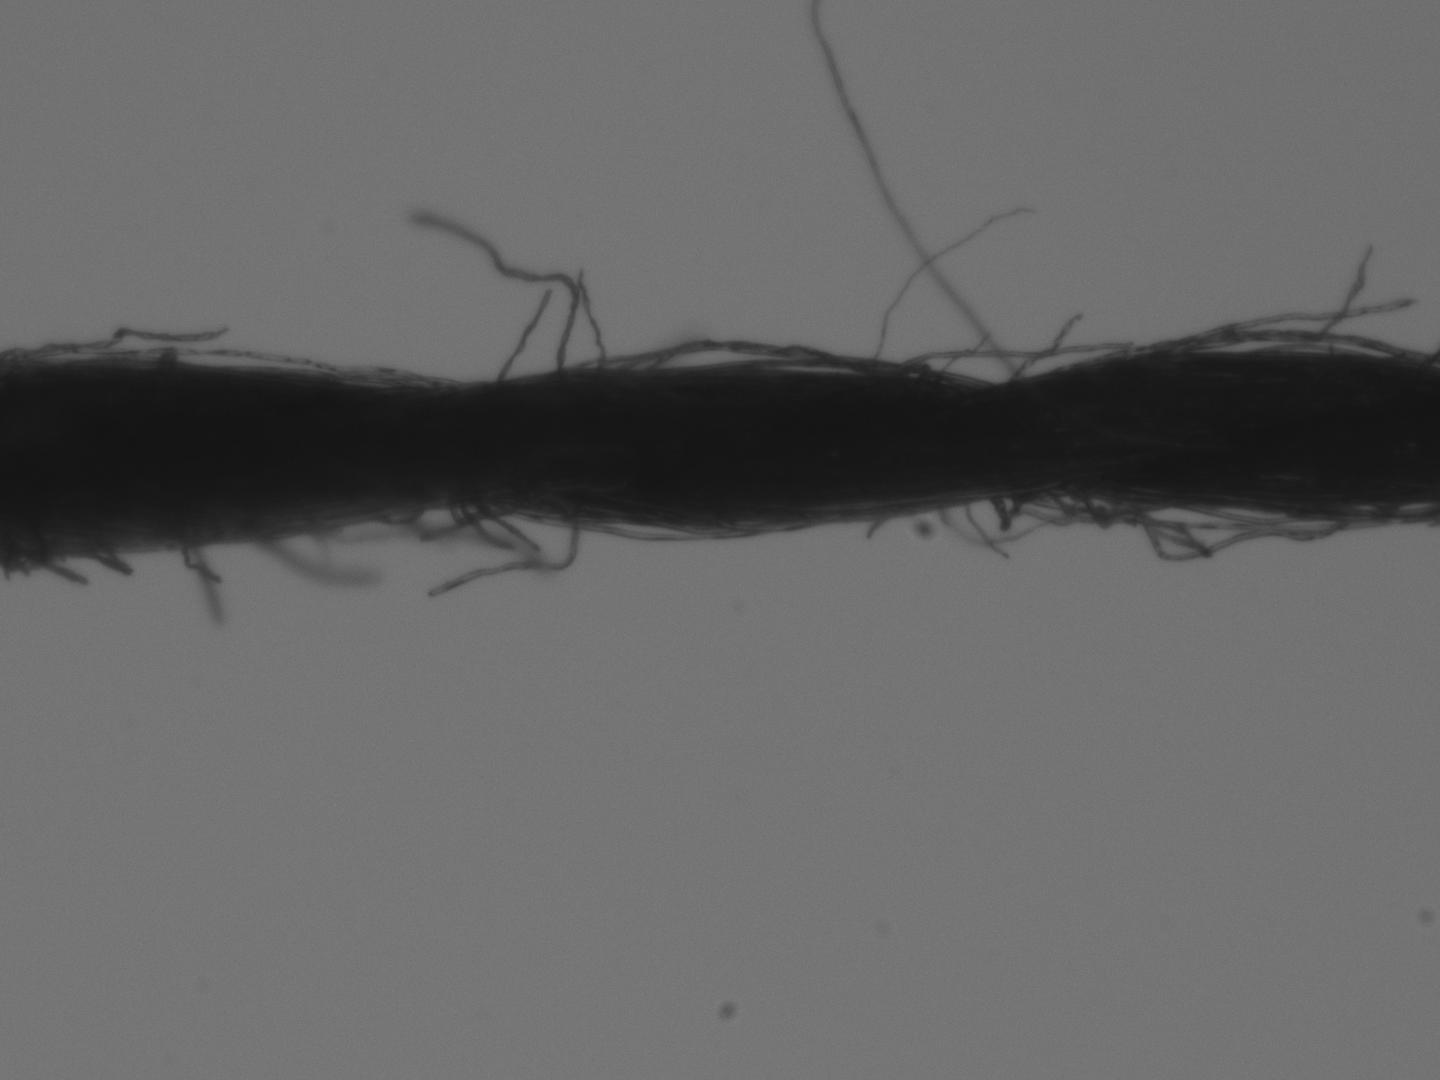loop_fiber: (490, 499, 833, 542), (1124, 498, 1352, 556), (574, 339, 867, 376), (893, 341, 1135, 381), (1125, 328, 1401, 358), (33, 344, 325, 372), (720, 358, 983, 382), (1069, 489, 1176, 523), (313, 364, 450, 387), (986, 486, 1035, 532), (1048, 489, 1098, 512), (375, 501, 423, 523)
protruding_fiber: (815, 3, 1009, 372), (873, 205, 1036, 373), (422, 216, 577, 378), (1308, 243, 1373, 356), (1001, 302, 1085, 385), (493, 287, 548, 380), (960, 504, 1008, 555), (40, 557, 85, 591), (865, 518, 884, 534)
